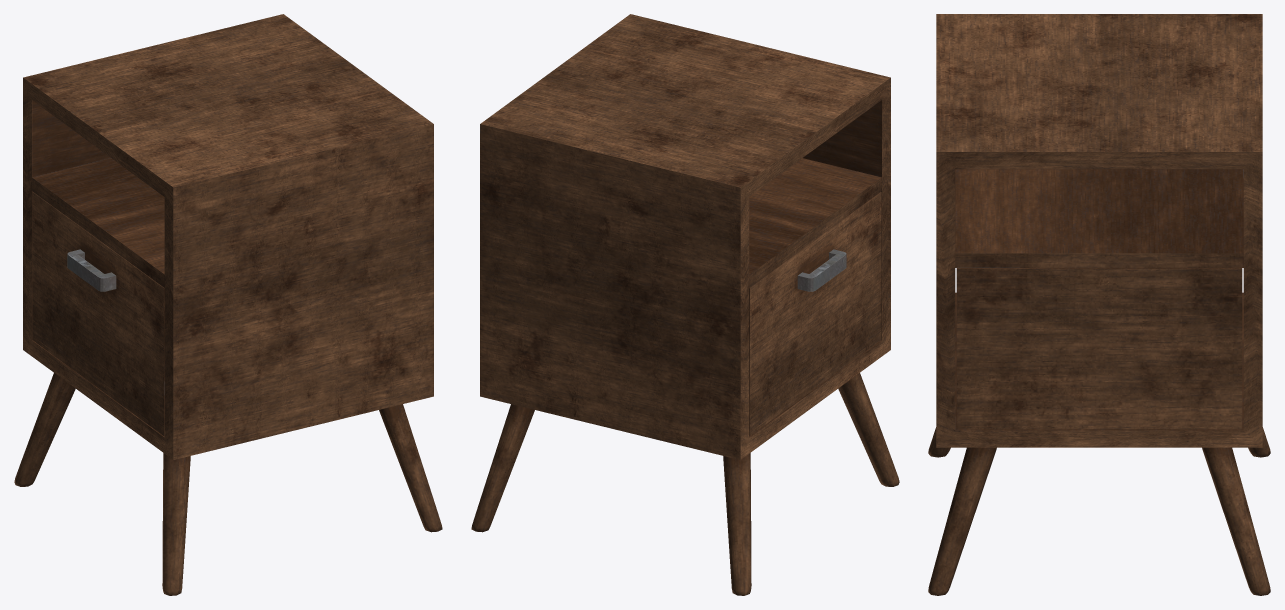
The model's file is furniture.glb.
3 views of the same model, side by side, from view 1: azimuth 30°, elevation 25°; view 2: azimuth 150°, elevation 25°; view 3: azimuth 270°, elevation 25° (orthographic). The views are drawn at different scales.
Visible parts, largest first — view 1: Furniture; view 2: Furniture; view 3: Furniture.
Boxes of the visible parts, x1,y1,x2,y2 form: Furniture: (14, 14, 442, 595); Furniture: (471, 14, 899, 595); Furniture: (928, 14, 1270, 595).
Size of the model in its own units: 1.09 by 1.49 by 1.05.
Materials: 1 (1 with a texture image).
